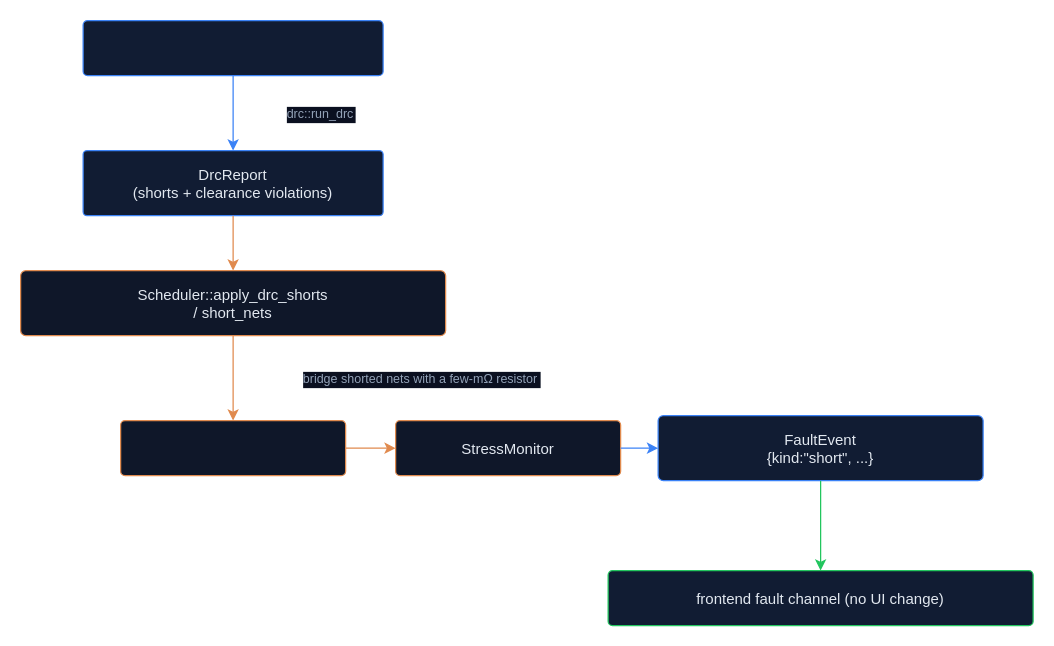
This 1054x646 diagram has some shape labels left out. The box of each missing label's shape, as (x1, y1, x2, y2) in pixels:
.kicad_pcb: (82, 19, 383, 76)
transient solve: (119, 419, 346, 476)
